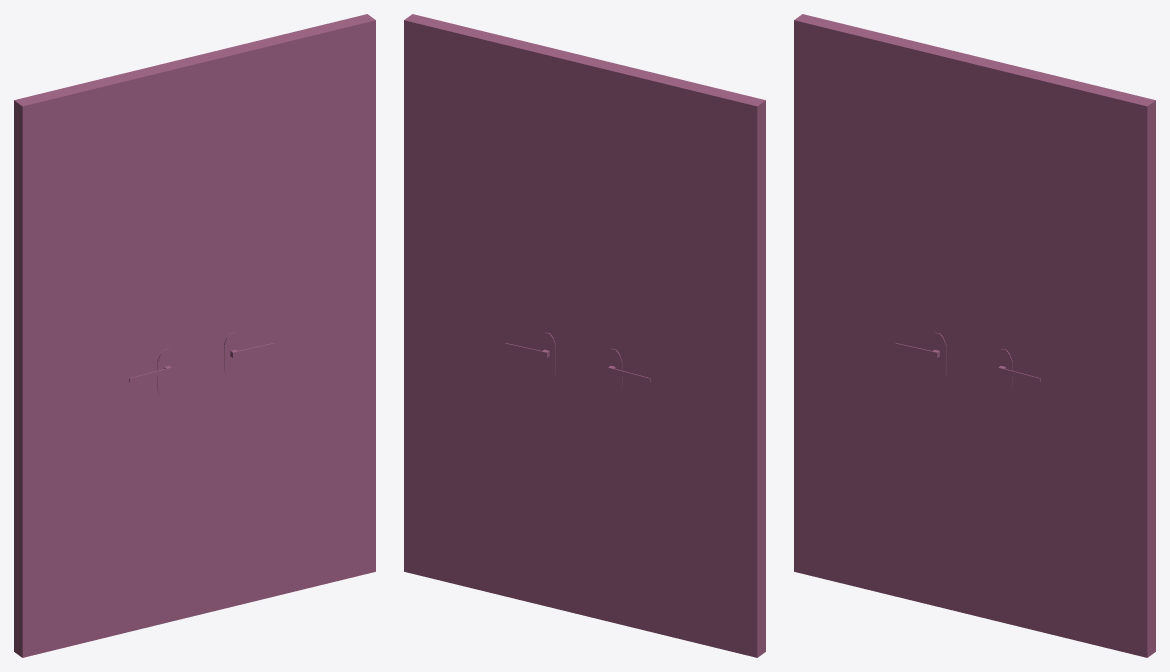
File: DoorDouble.fbx
3 views of the same model, side by side, from view 1: azimuth 30°, elevation 25°; view 2: azimuth 150°, elevation 25°; view 3: azimuth 330°, elevation 25° (orthographic).
Visible parts, largest first — view 1: rightDoor, leftDoor; view 2: rightDoor, leftDoor; view 3: leftDoor, rightDoor.
Part boxes in pixels (<box>): rightDoor: <box>14,57,199,657</box>; leftDoor: <box>191,14,375,614</box>; rightDoor: <box>580,57,765,657</box>; leftDoor: <box>404,14,588,614</box>; leftDoor: <box>970,57,1155,657</box>; rightDoor: <box>794,14,978,614</box>.
Bounding box in the file's own units: 168 × 250 × 12.14.
